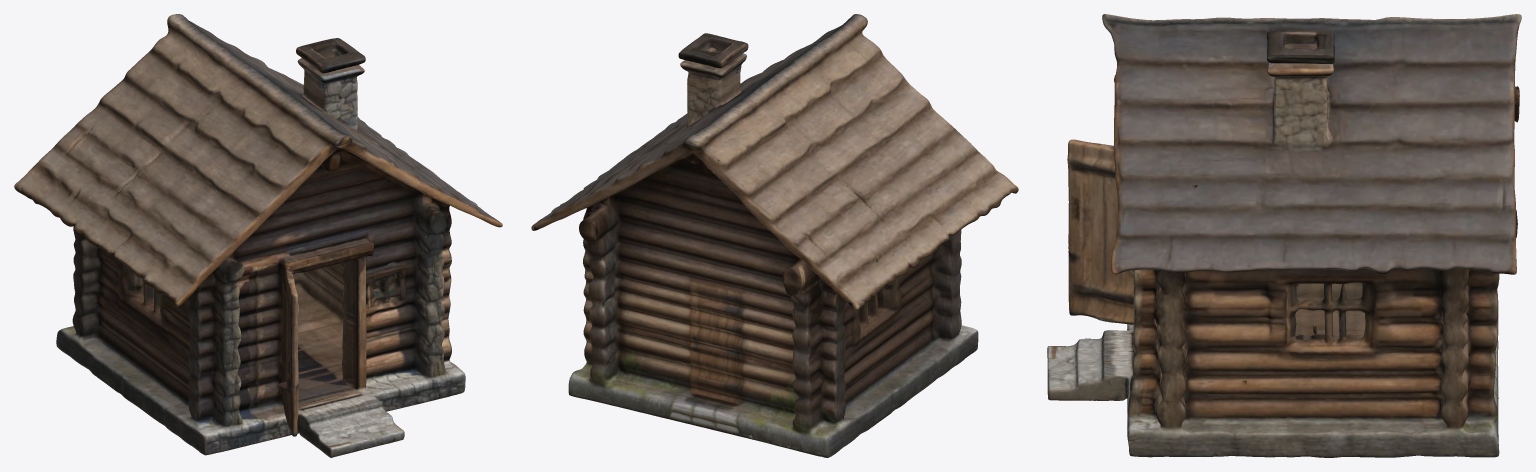
The model's file is cabin.glb.
The picture shows the model from 3 angles, left to right: view 1: azimuth 30°, elevation 25°; view 2: azimuth 150°, elevation 25°; view 3: azimuth 270°, elevation 25°; orthographic projection. The views are drawn at different scales.
Size of the model in its own units: 1.97 by 1.77 by 2.01.
Materials: 1 (1 with a texture image).
